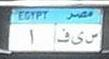1: (28, 28, 36, 47)
faa: (56, 27, 70, 45)
seen: (85, 31, 98, 46)
yaa: (71, 30, 84, 46)
